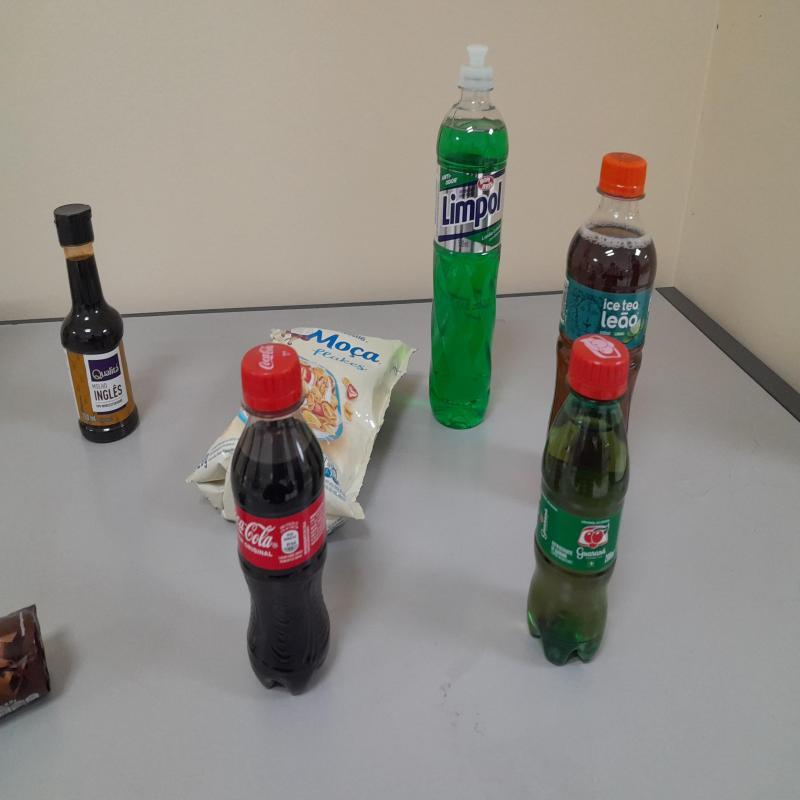Cleaner: (428, 44, 509, 434)
Coke: (232, 343, 334, 698)
Cookies: (0, 606, 52, 727)
CornFlakes: (280, 328, 417, 534), (186, 410, 248, 522)
EnglishSauce: (54, 200, 141, 446)
Guarana: (527, 335, 630, 667)
IceTea: (549, 153, 657, 432)
